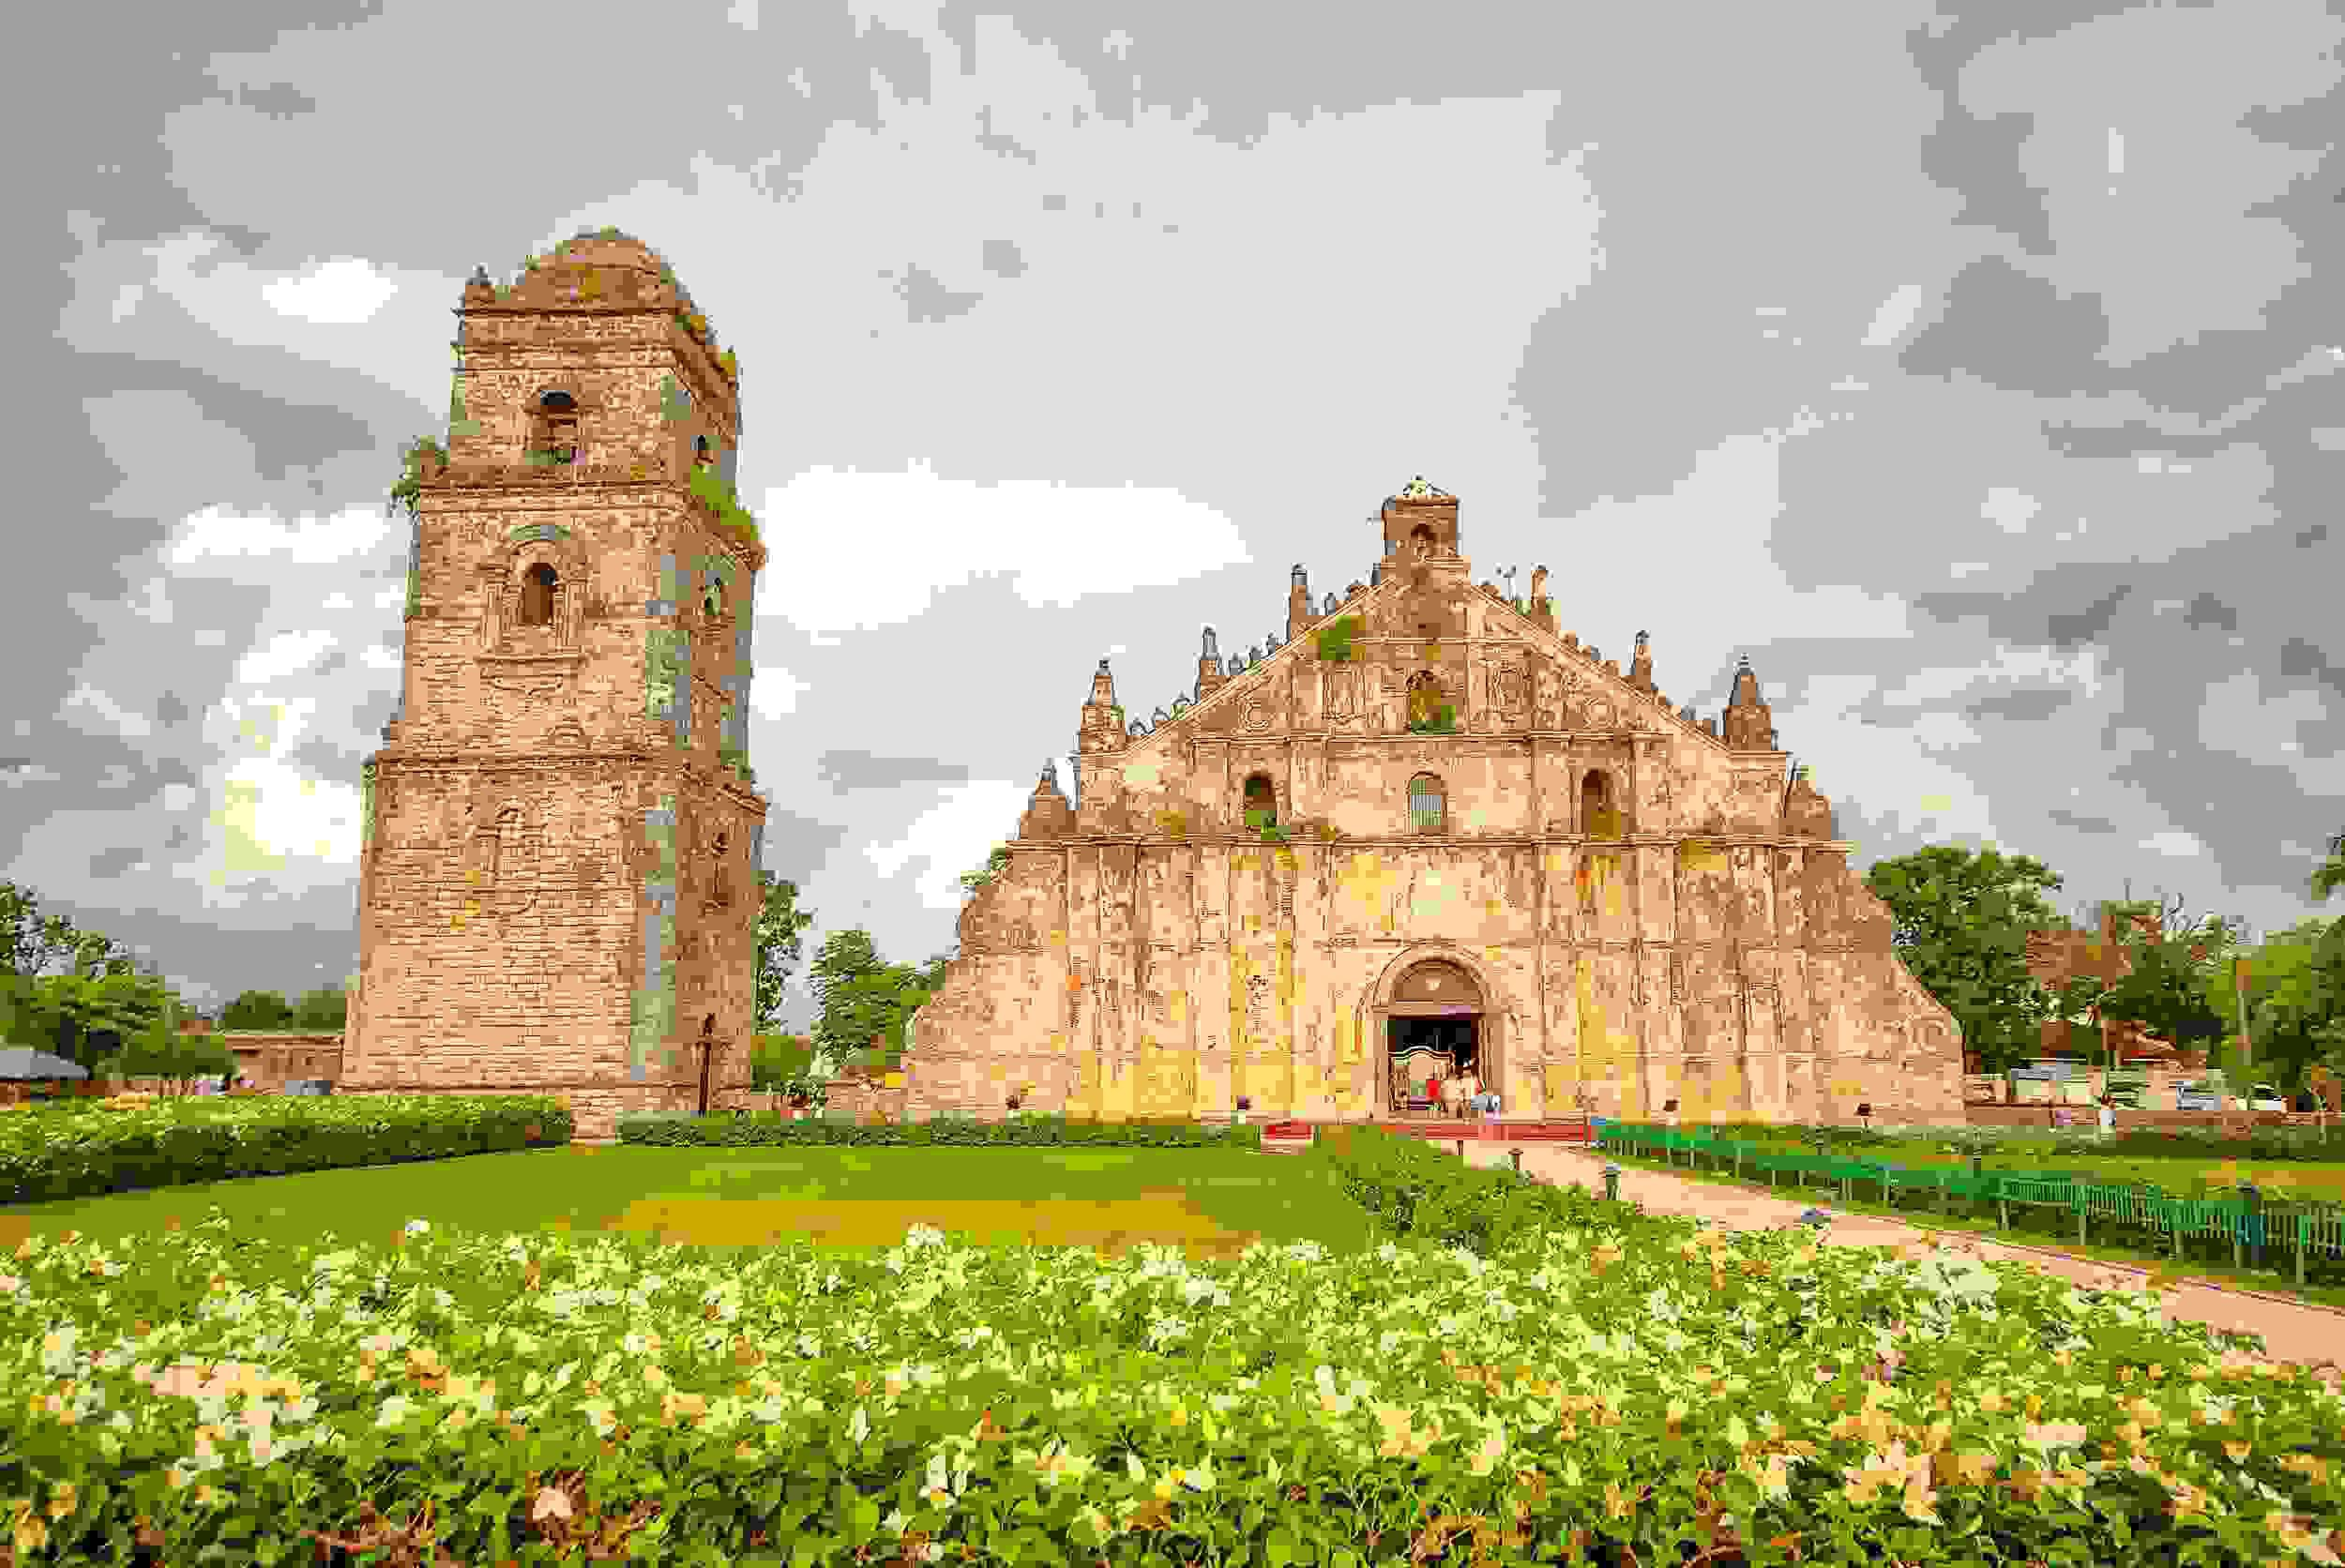paoay_church_paoay_ilocos_norte: (334, 201, 1991, 1174)
